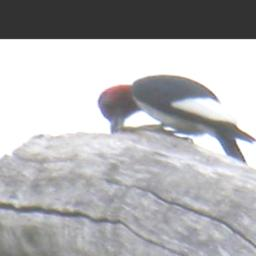Woodpecker: (90, 71, 256, 166)
